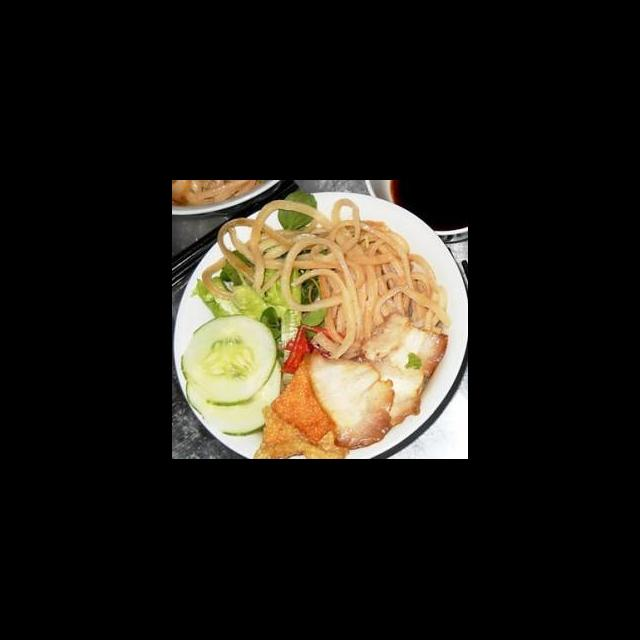banh da: (248, 396, 353, 459), (269, 352, 337, 448)
mi: (198, 196, 453, 364)
mi quang: (174, 200, 467, 460)
thit heo: (305, 348, 397, 452), (355, 310, 451, 382), (350, 354, 428, 430)
